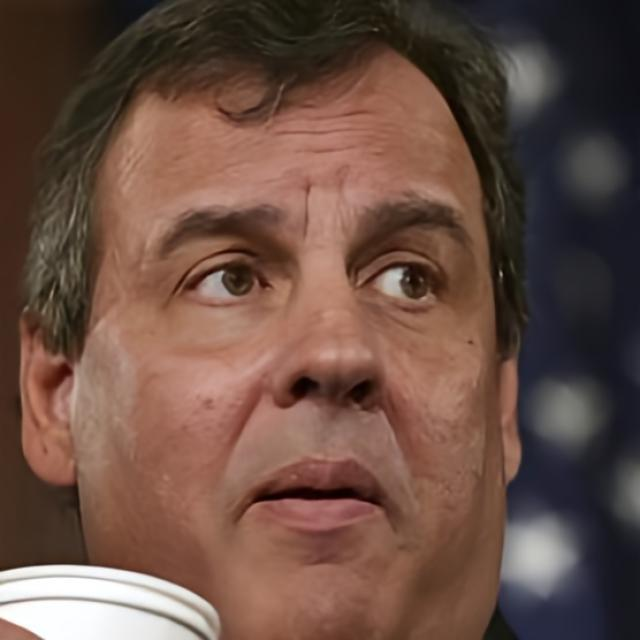surprise: (78, 41, 494, 640)
